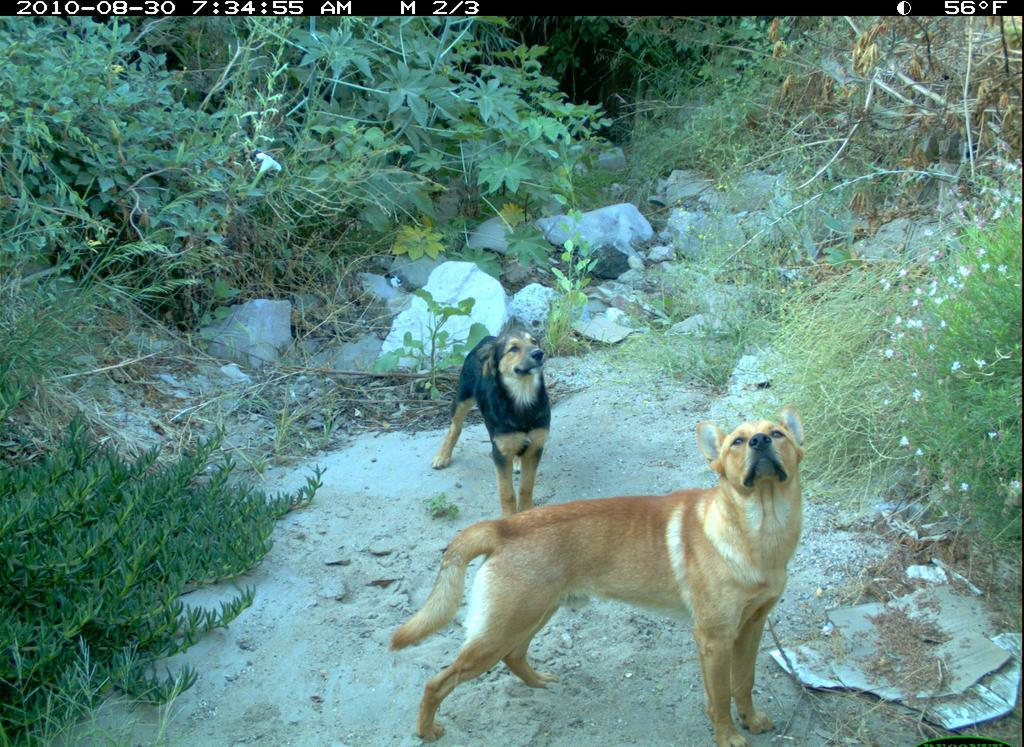dog: (387, 399, 826, 744), (409, 308, 596, 516)
